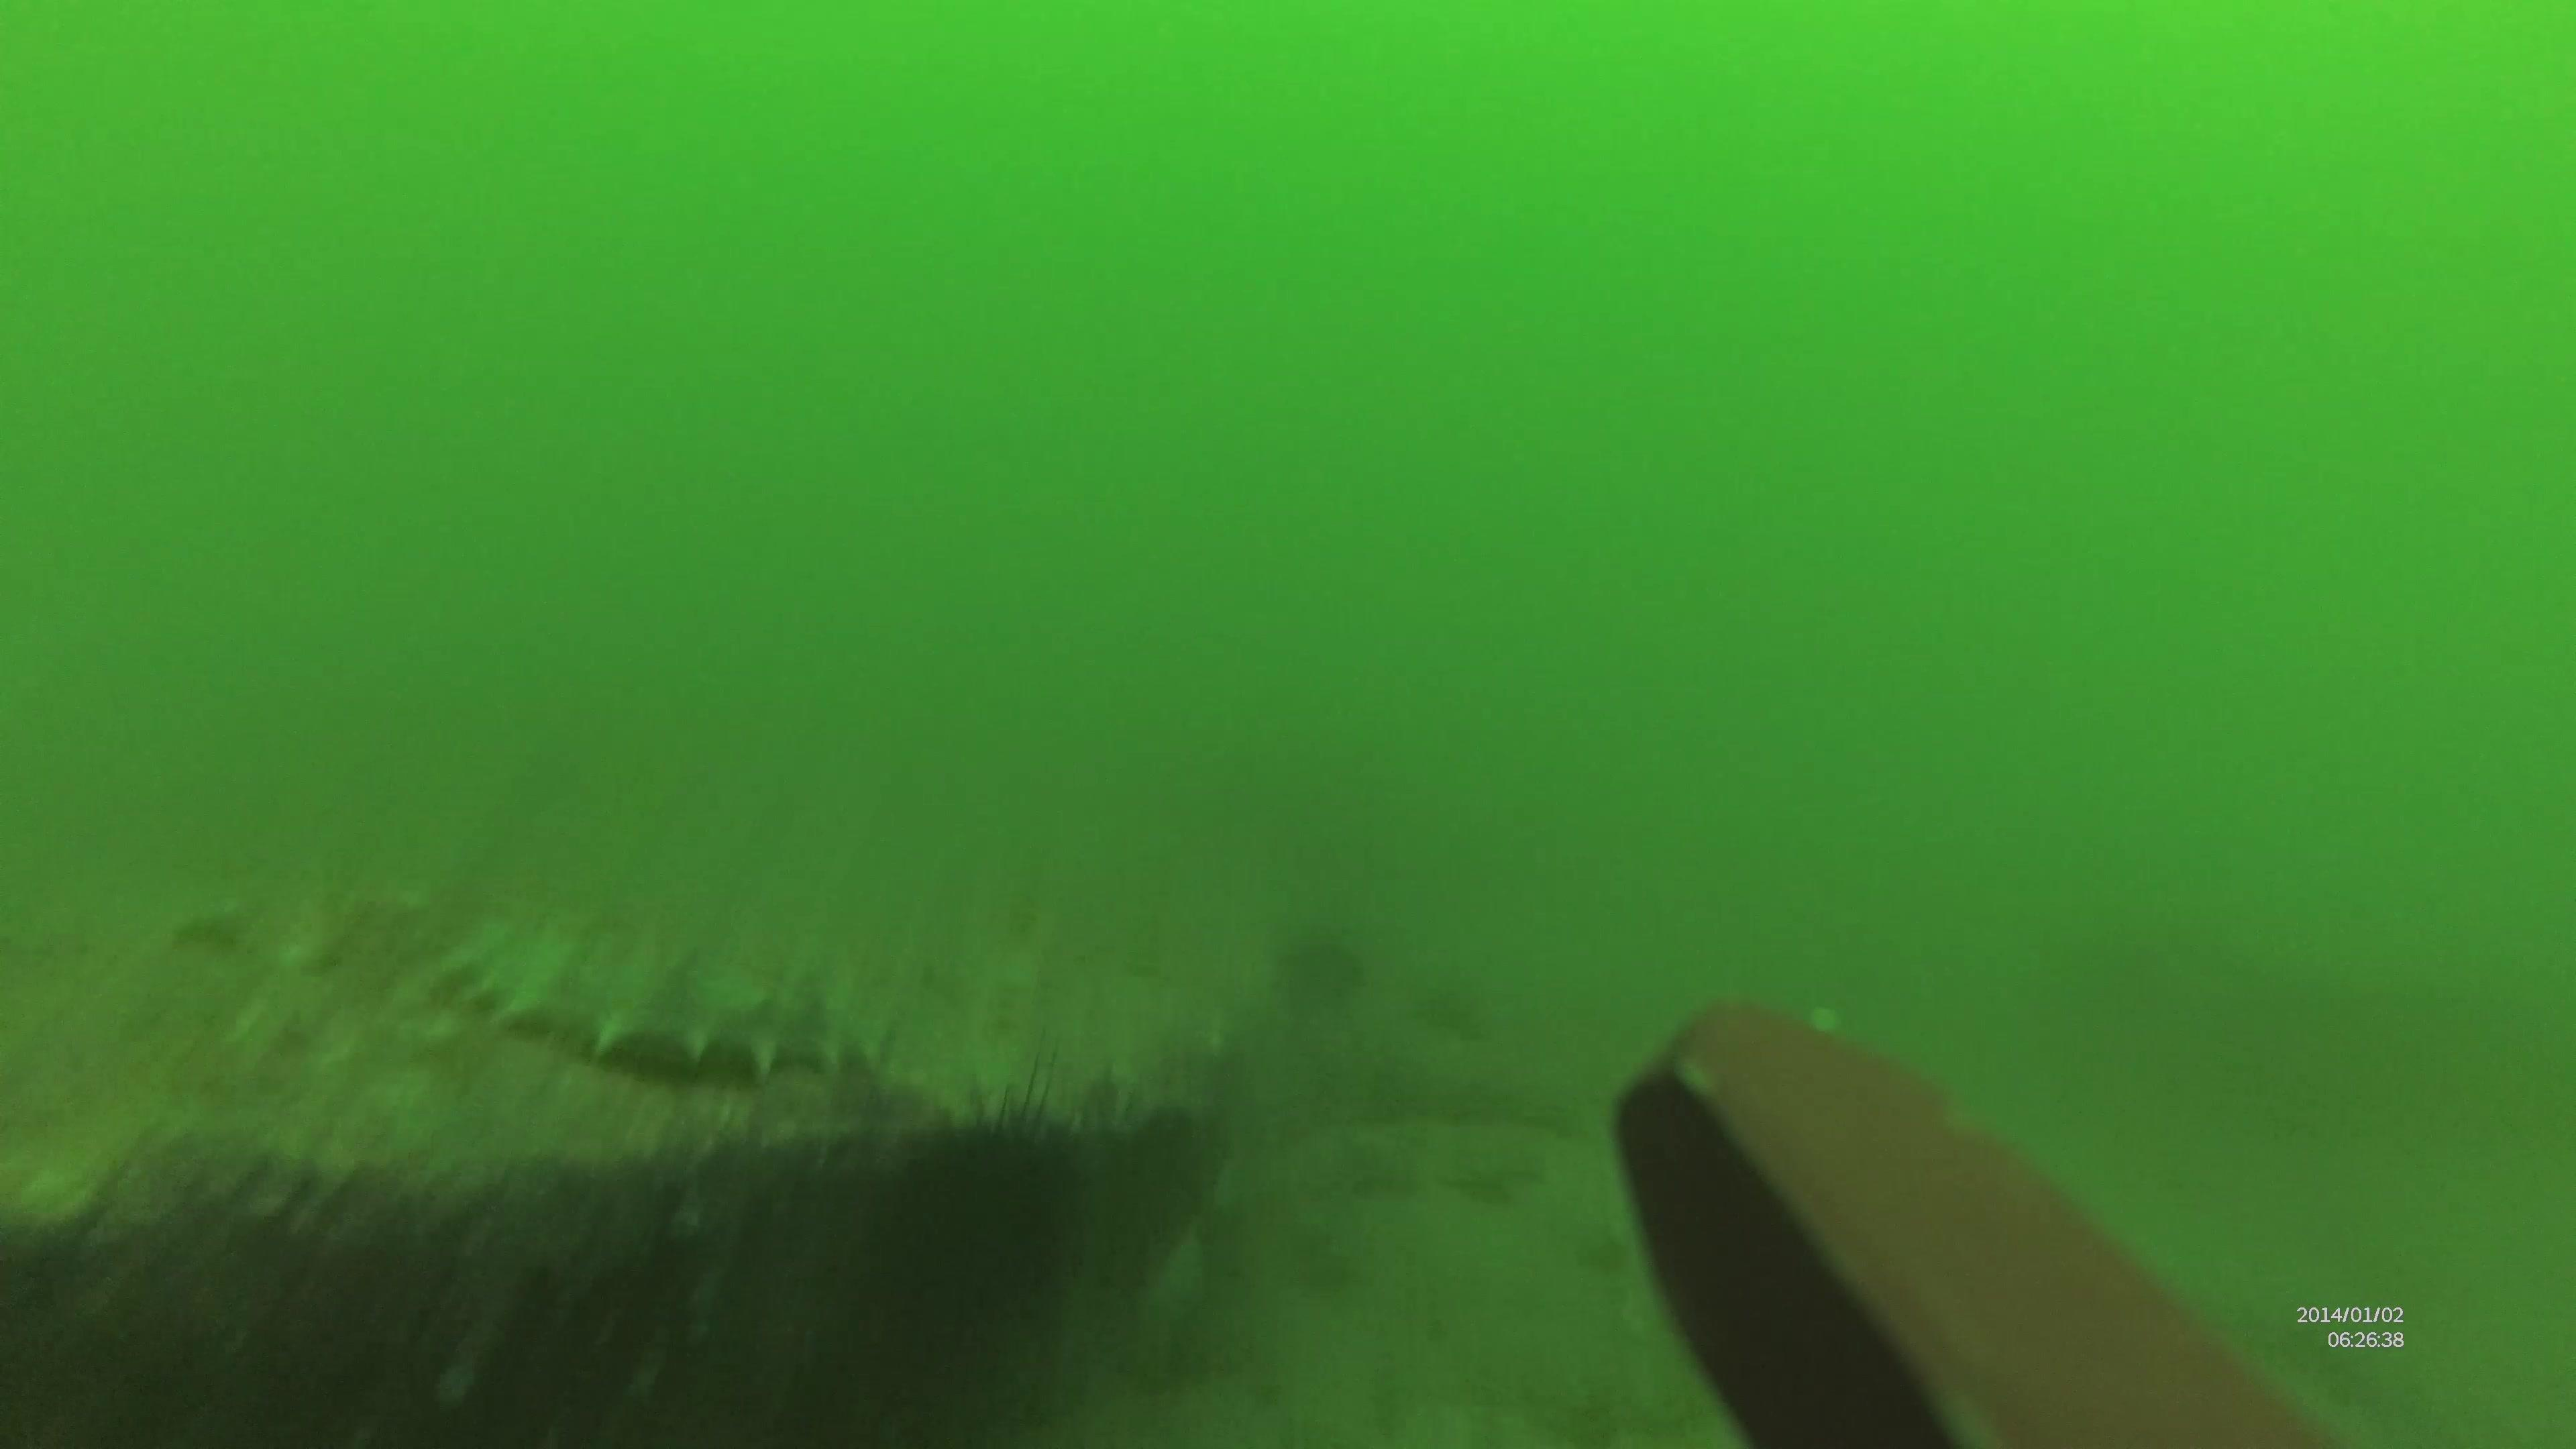echinus: (906, 1097, 1088, 1313)
holothurian: (419, 899, 893, 1093)
